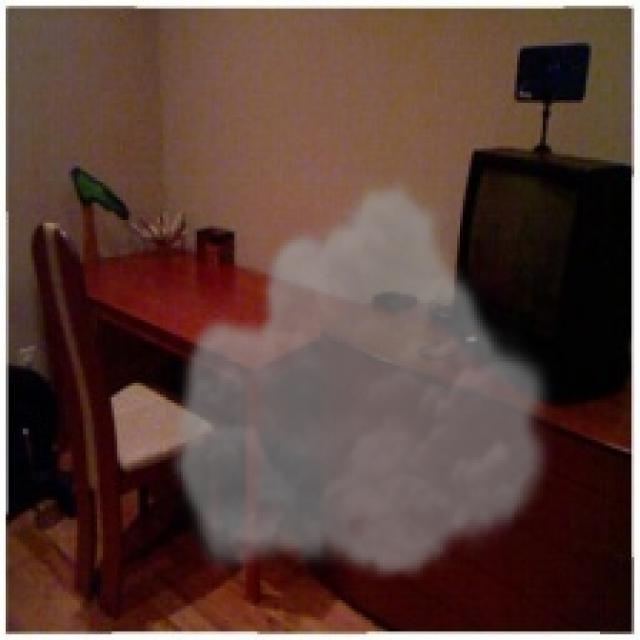Smoke: (165, 171, 560, 583)
